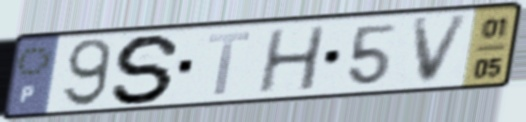5: (346, 20, 402, 87)
9: (58, 36, 116, 109)
H: (253, 23, 328, 96)
S: (108, 31, 186, 106)
T: (204, 29, 255, 98)
V: (409, 11, 475, 88)
